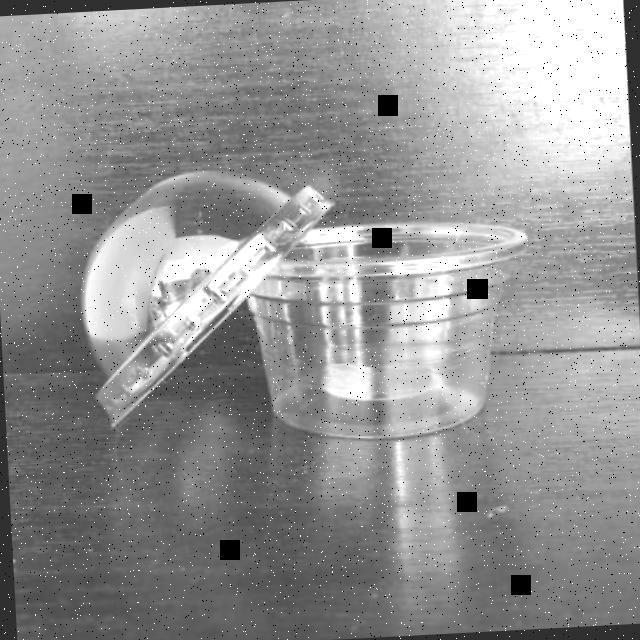plastic_box: (217, 220, 538, 448), (78, 160, 344, 427)
